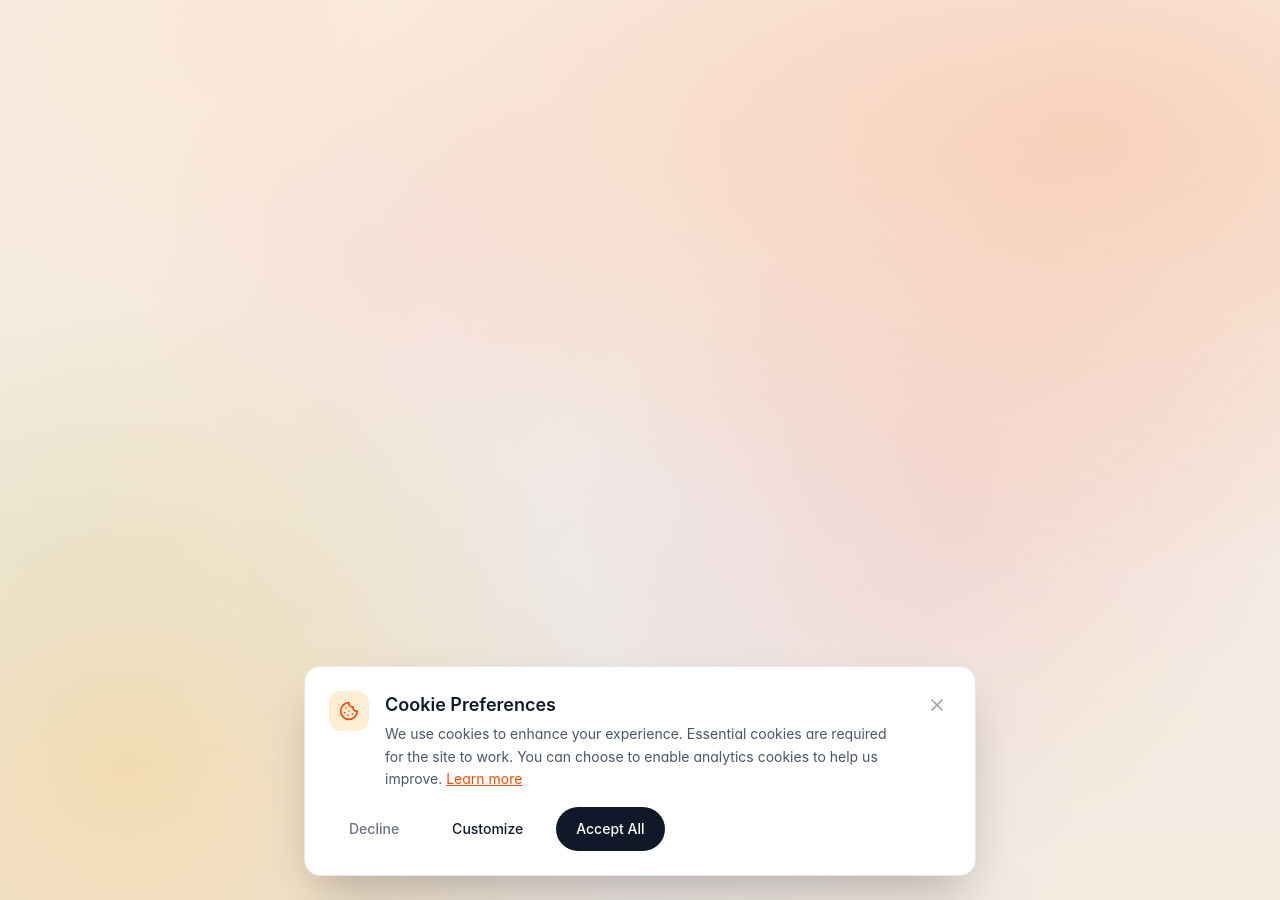
Test: CookieConsent › clicking Customize shows analytics toggle
Click the button "Customize": [488, 829] box [431,807,544,851]
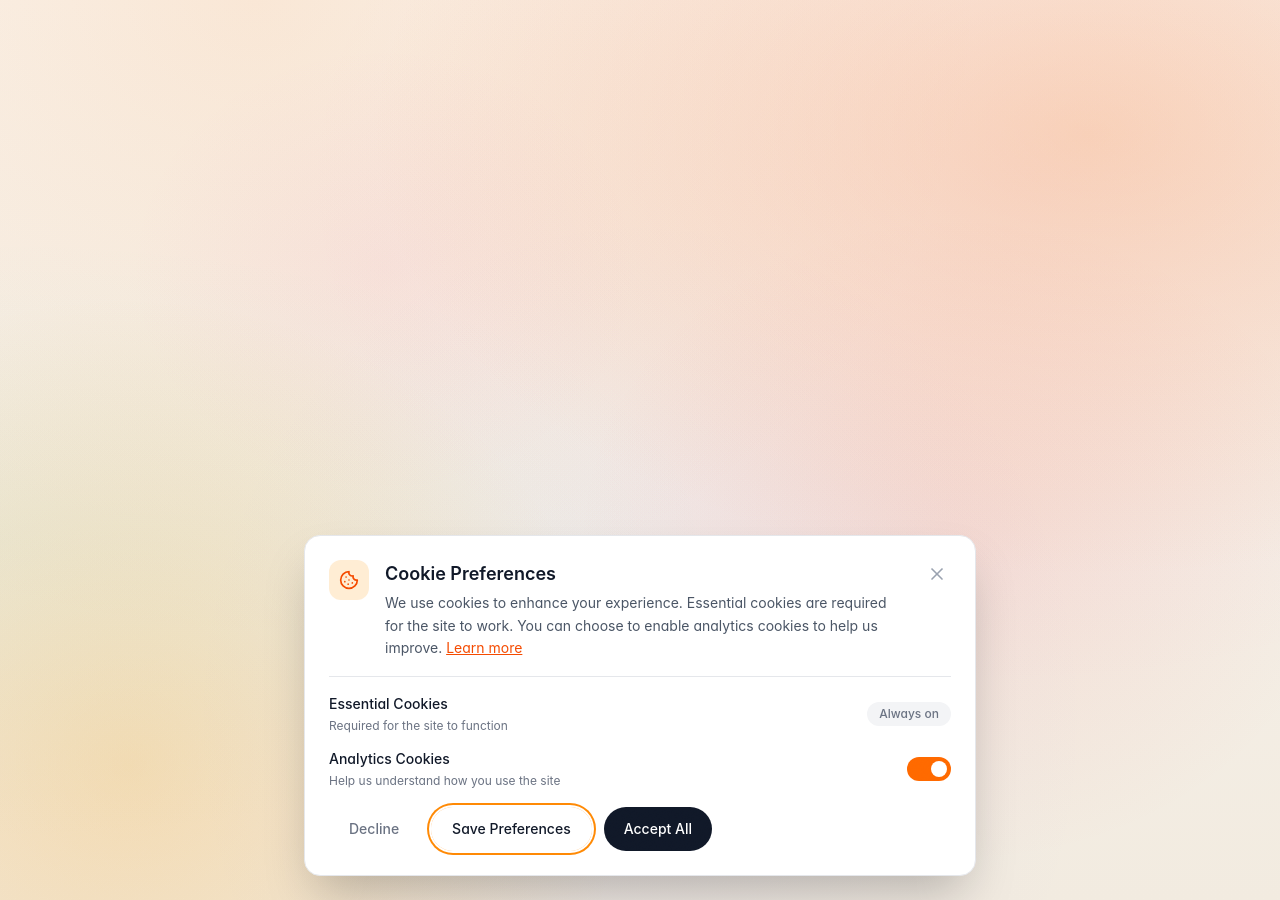
Check: the text "Essential Cookies" is shown, box [329,695,448,712]
Check: the text "Analytics Cookies" is shown, box [329,750,450,767]
Check: the text "Always on" is shown, box [867,702,951,726]
